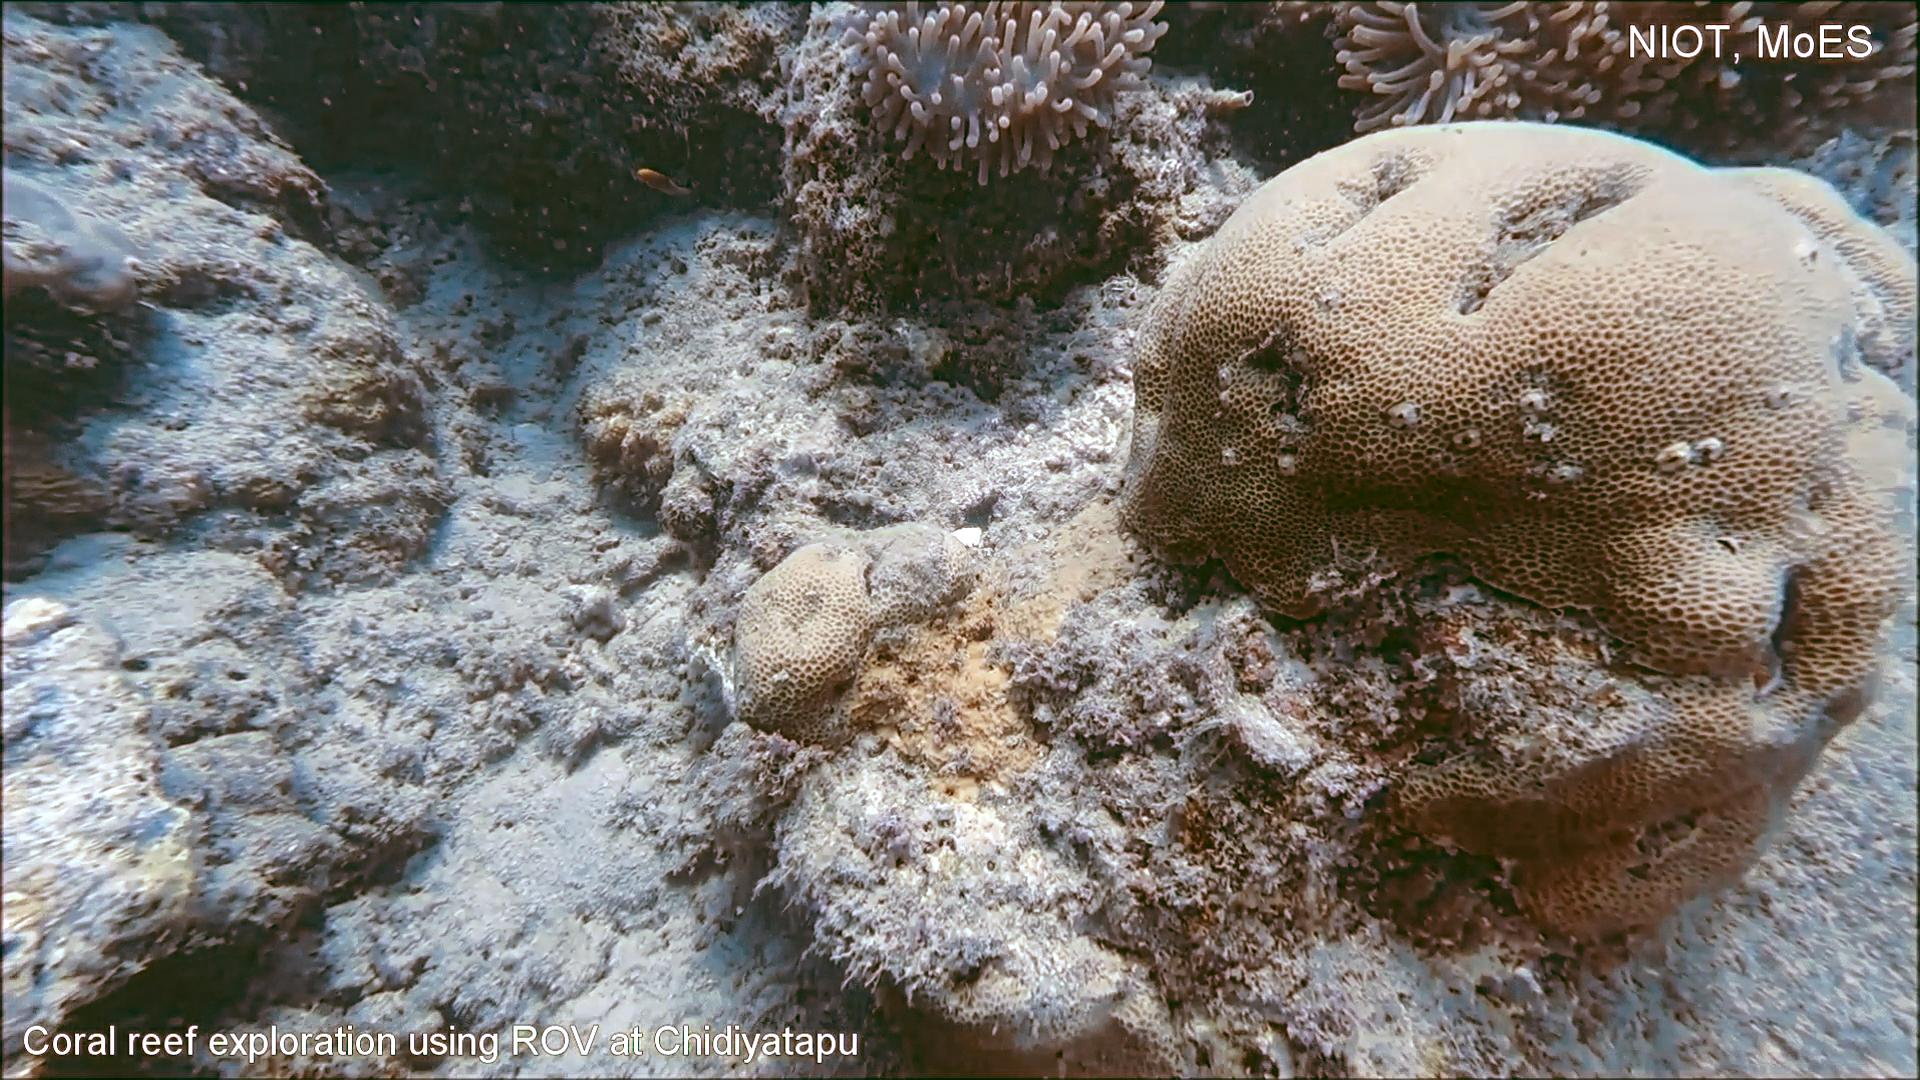Macrodactyla doreensis-Long tentacle Anemone: (1317, 0, 1920, 136), (832, 0, 1172, 199)
